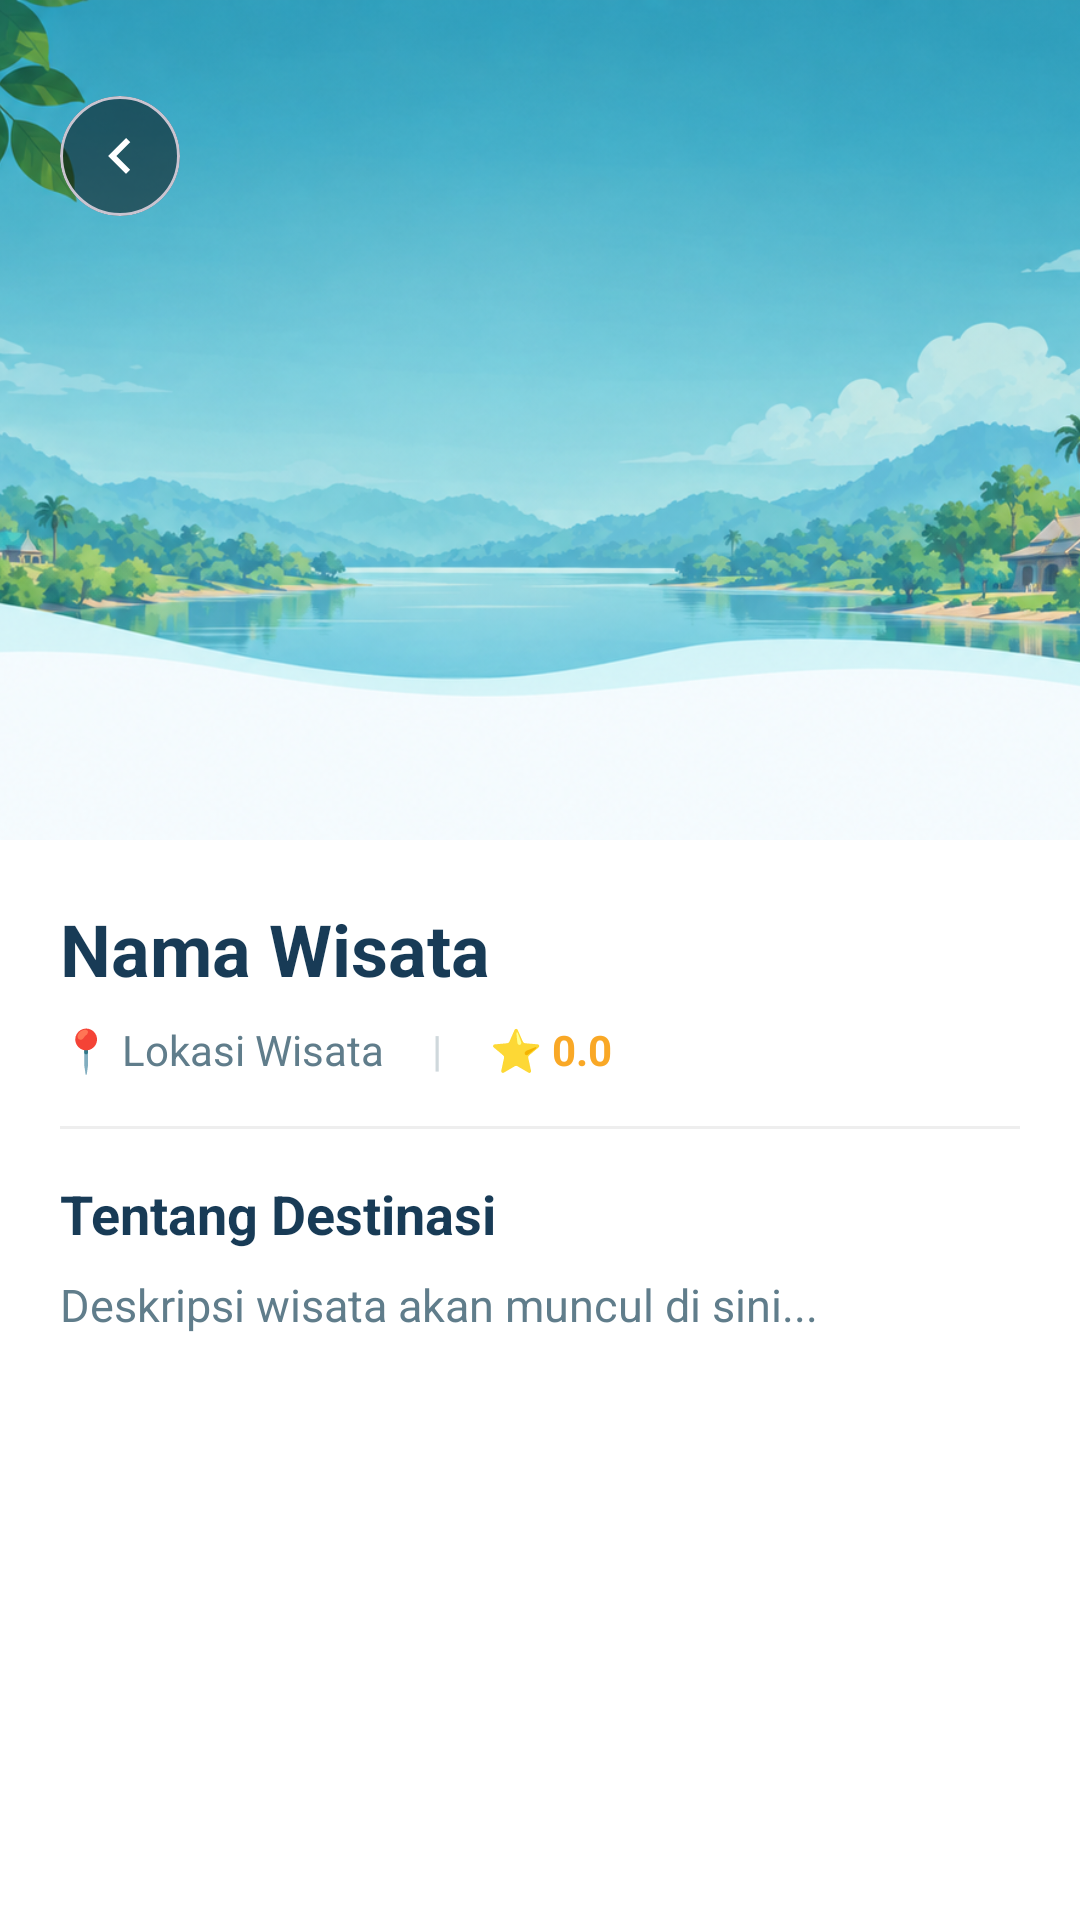

Icon bounding boxes for this 1080*1920 phone screenshot, format Rect(x1, y1, x2, y2):
arrow back: Rect(108, 138, 130, 174)
